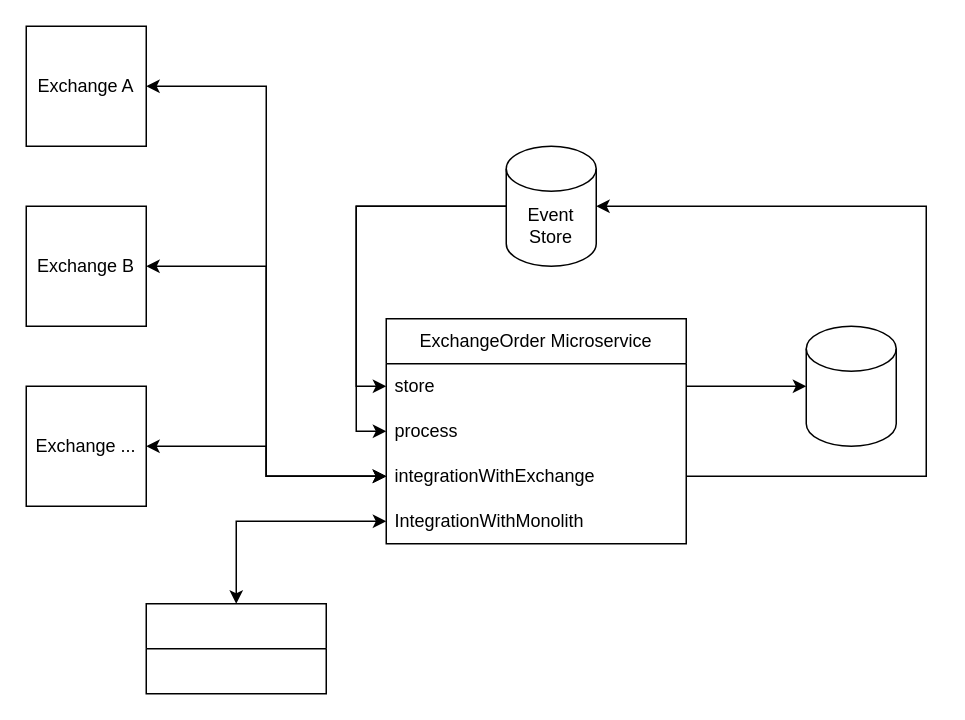
The diagram is 965 pixels wide and 720 high, and some of its shapes have lost their labels. Here are the shapes that lost their labels. From the top down, the centre of each, then its label:
At [850,385]: "DB".
At [235,648]: "Monolith".
